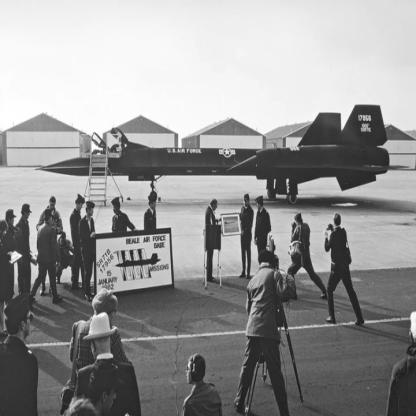SR71: (23, 105, 412, 207)
